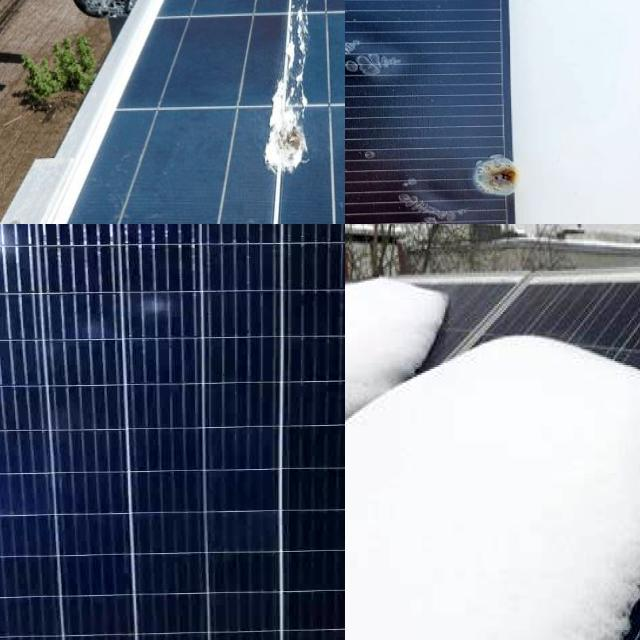bird: (263, 0, 324, 186)
crack: (0, 224, 345, 640)
panel: (375, 425, 528, 549), (560, 331, 640, 416), (552, 435, 630, 521), (385, 567, 483, 630), (456, 312, 542, 372), (593, 534, 640, 640), (372, 256, 460, 306), (395, 323, 445, 377)
shadow: (453, 135, 540, 224)
